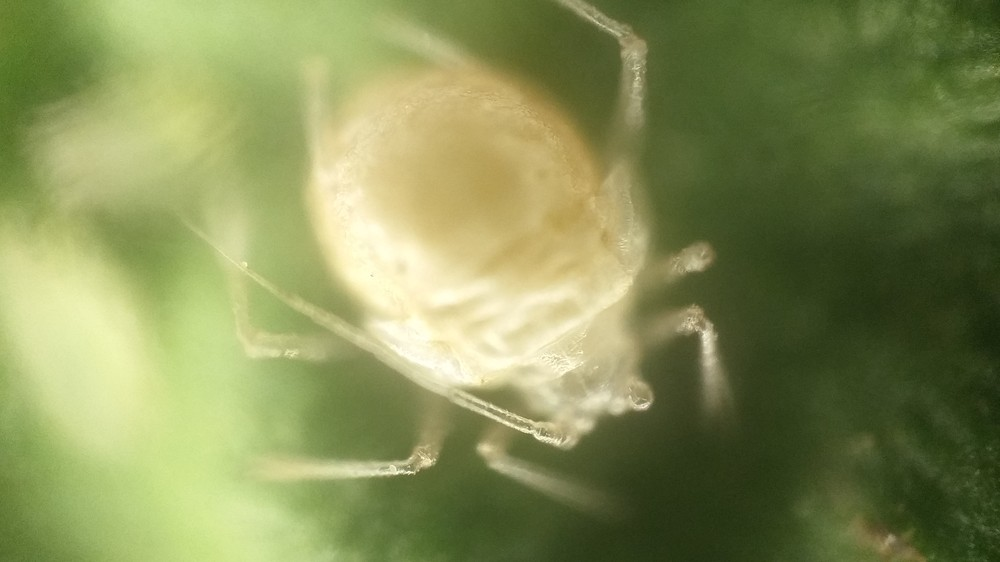Pulgon: (211, 11, 768, 548)
